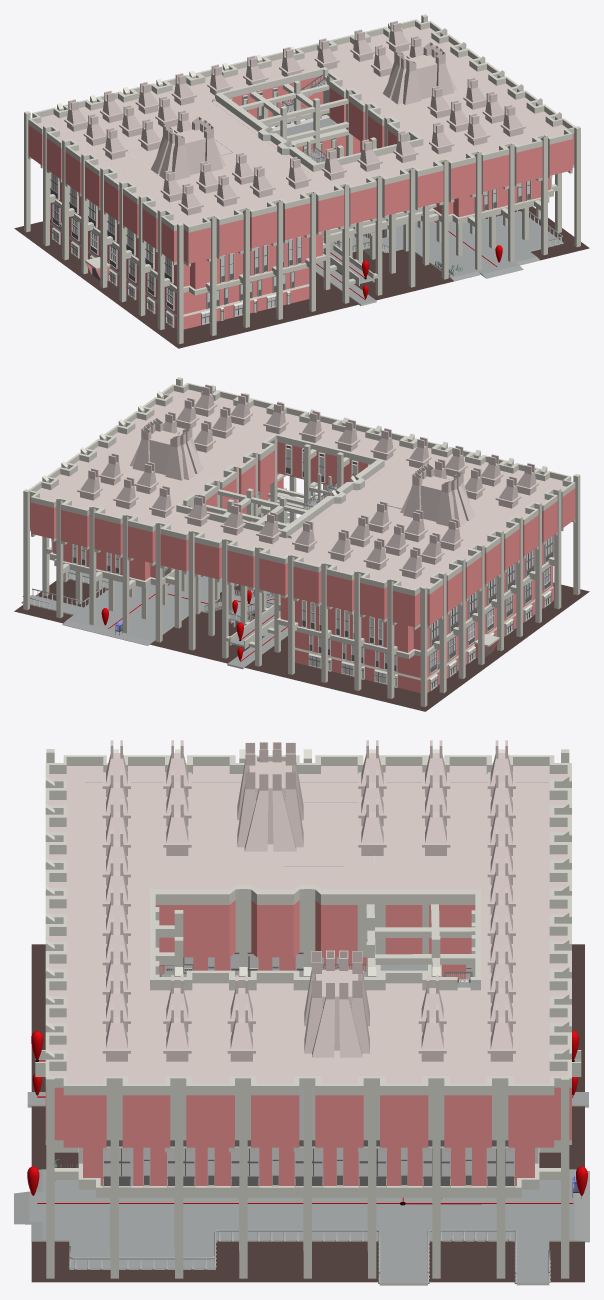
3 renders of one model, top to bottom at view 1: azimuth 30°, elevation 25°; view 2: azimuth 150°, elevation 25°; view 3: azimuth 270°, elevation 25°, orthographic. The views are drawn at different scales.
Parts seen in each view (by area): view 1: Cube041, Second_Library, Ground_Library, First_Library, Basement_Library, Reflectors; view 2: Cube041, Second_Library, Ground_Library, First_Library, Basement_Library, Reflectors; view 3: Cube041, Second_Library, Ground_Library, First_Library, Reflectors.
Boxes of the visible parts, bbox=[...] form: Cube041: bbox=[24, 14, 580, 343]; Second_Library: bbox=[28, 19, 575, 266]; Ground_Library: bbox=[14, 202, 589, 348]; First_Library: bbox=[50, 113, 553, 295]; Basement_Library: bbox=[50, 215, 309, 329]; Reflectors: bbox=[51, 93, 529, 325]; Cube041: bbox=[23, 377, 580, 706]; Second_Library: bbox=[29, 382, 575, 629]; Ground_Library: bbox=[14, 512, 589, 711]; First_Library: bbox=[49, 473, 554, 658]; Basement_Library: bbox=[295, 579, 553, 692]; Reflectors: bbox=[73, 449, 552, 688]; Cube041: bbox=[46, 740, 569, 1279]; Second_Library: bbox=[45, 755, 571, 1152]; Ground_Library: bbox=[14, 944, 589, 1285]; First_Library: bbox=[78, 952, 539, 1197]; Reflectors: bbox=[104, 956, 513, 1175].
Bounding box in the file's own units: 520 × 183 × 371.
